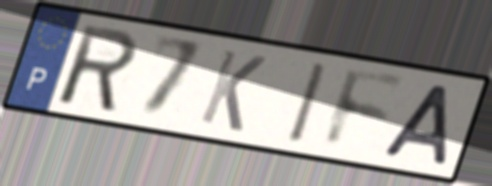7: (143, 32, 204, 122)
A: (379, 82, 455, 169)
F: (321, 64, 409, 152)
I: (285, 59, 332, 148)
K: (196, 46, 270, 135)
R: (56, 22, 140, 116)
